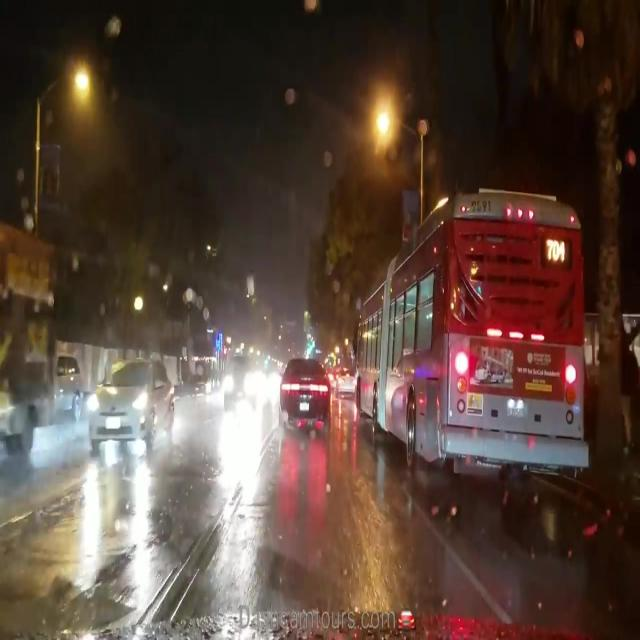Car: (84, 354, 177, 457), (281, 359, 331, 425), (219, 353, 256, 411), (334, 367, 355, 400)
